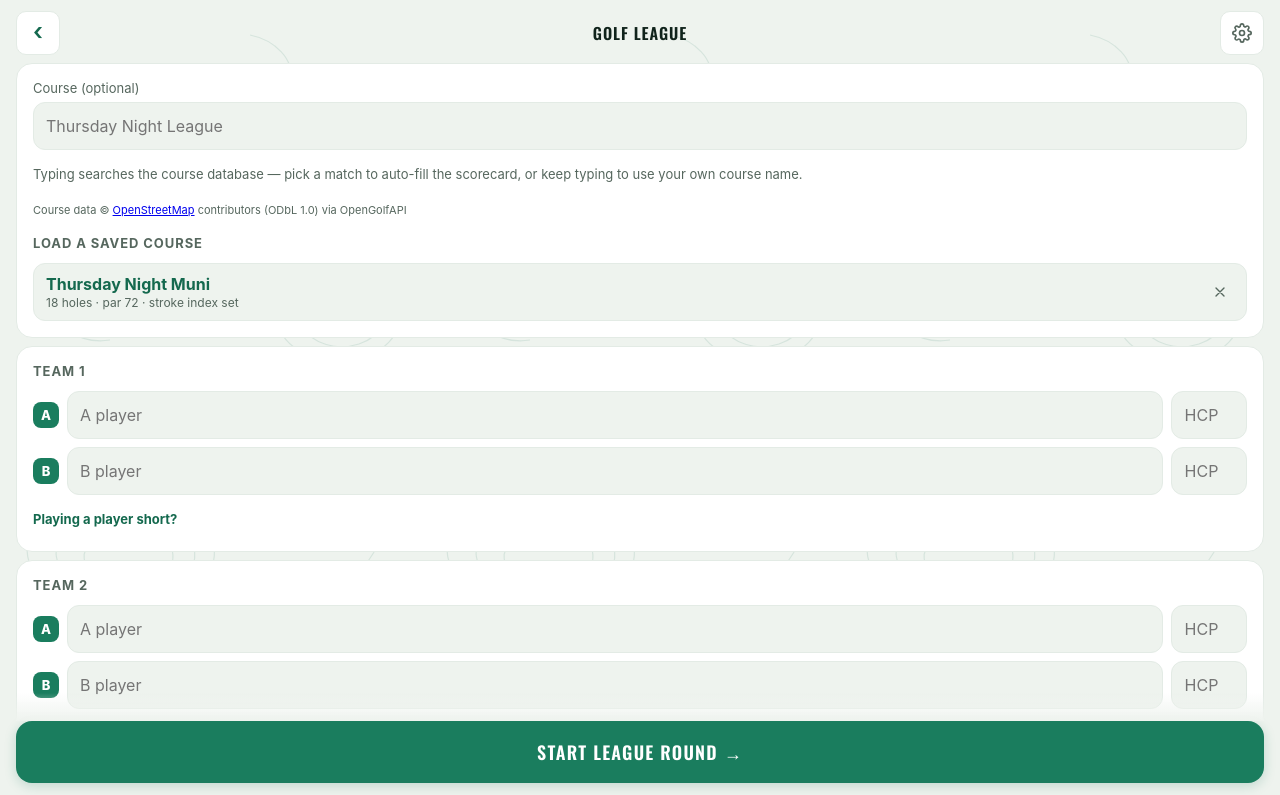
Test case: the pinned Start bar › keeps the button and any refusal in it, announced
Expected: the element "Start League Round →" is shown, [16,721,1264,794]
Click the button "Start League Round →" at (640,752), box [16,721,1264,783]
(page scrolled)
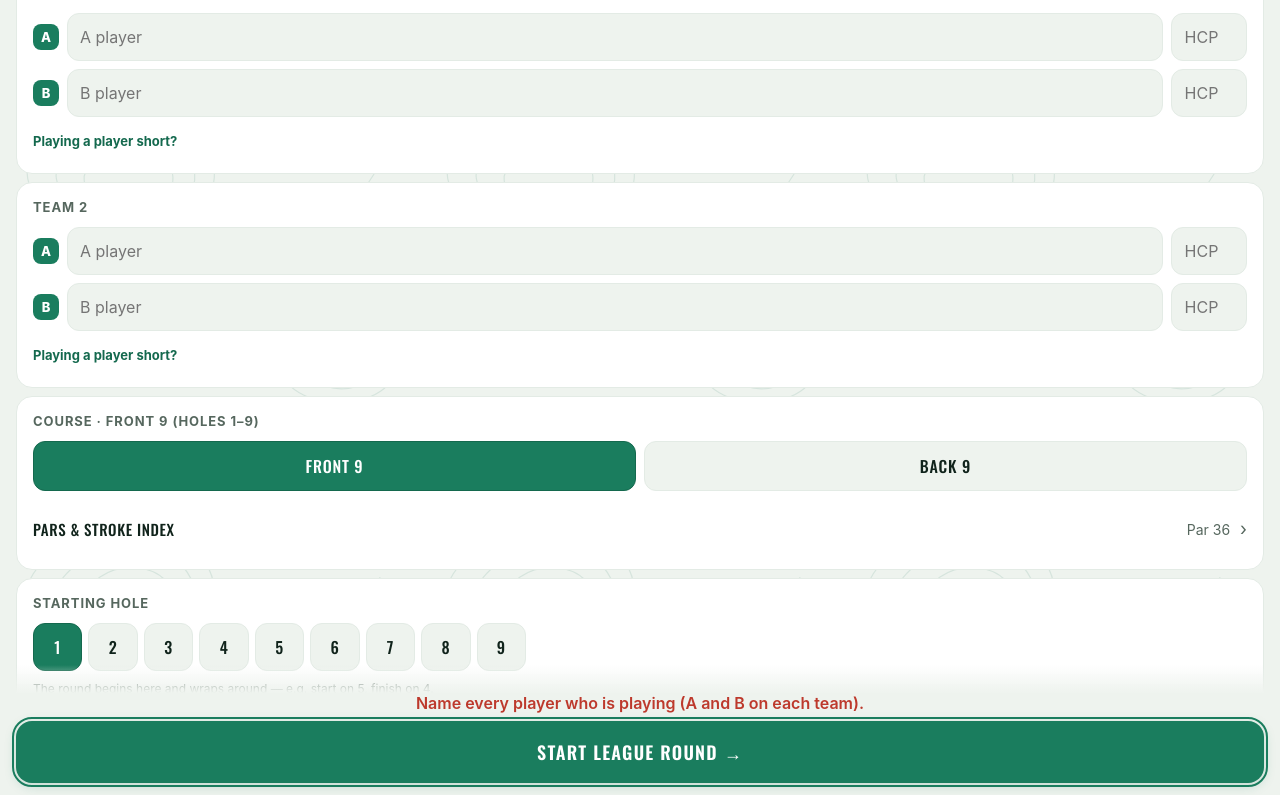
Result: the message "Name every player who is playing (A and B on each team)." is shown at [416,693,864,713]
